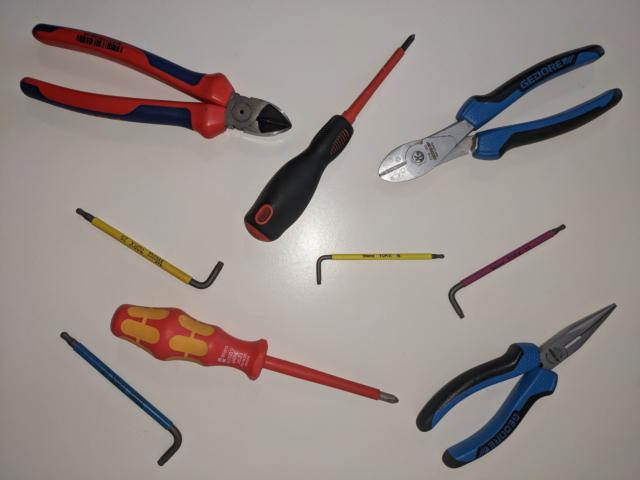Inbusschlüssel: (55, 328, 185, 467), (71, 204, 228, 293), (445, 220, 568, 322), (312, 250, 448, 288)
Schraubendreher: (240, 29, 419, 246), (108, 301, 403, 407)
Seitenschneider: (373, 41, 626, 189), (17, 22, 296, 141)
Zange: (412, 300, 620, 474)
